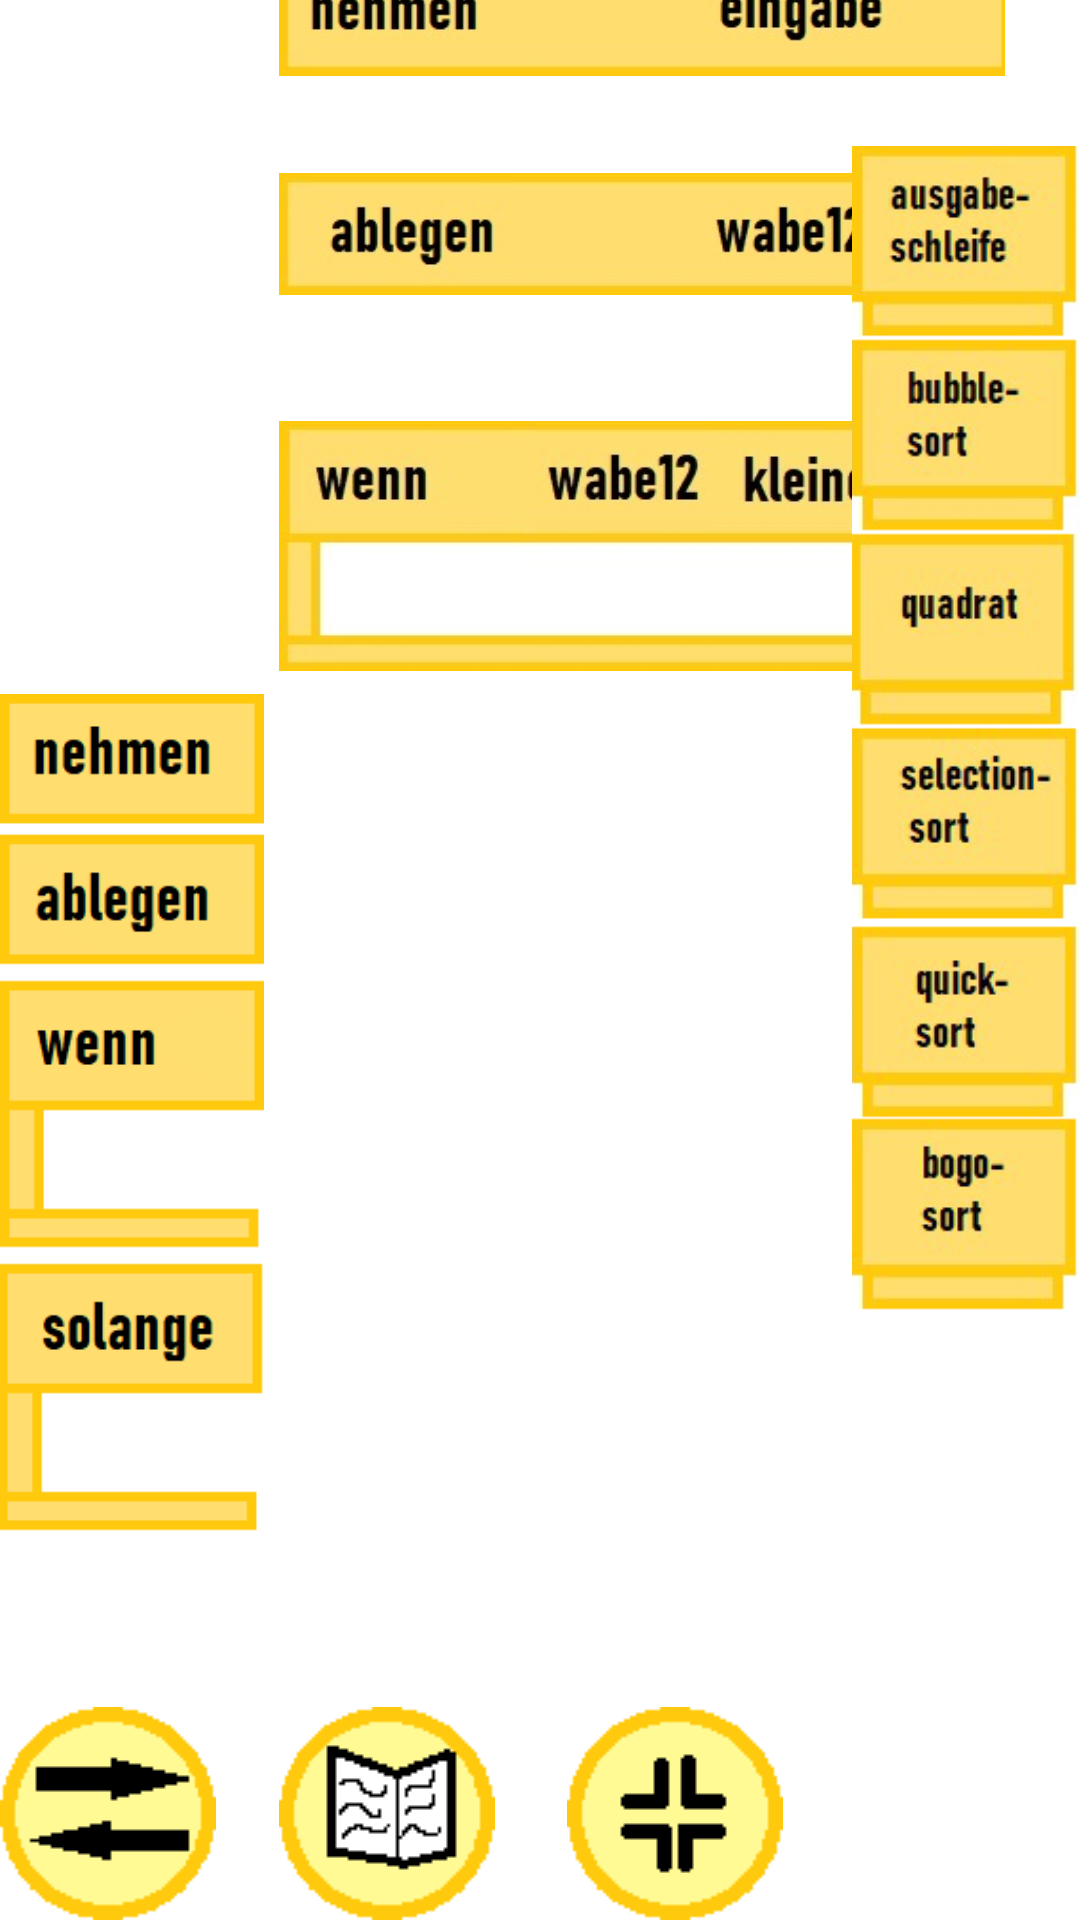

Named icons in this screenshot (1080*1920) and their centers, [x,y]:
buch: [387,1813]
klein: [675,1813]
wechsel: [108,1813]
